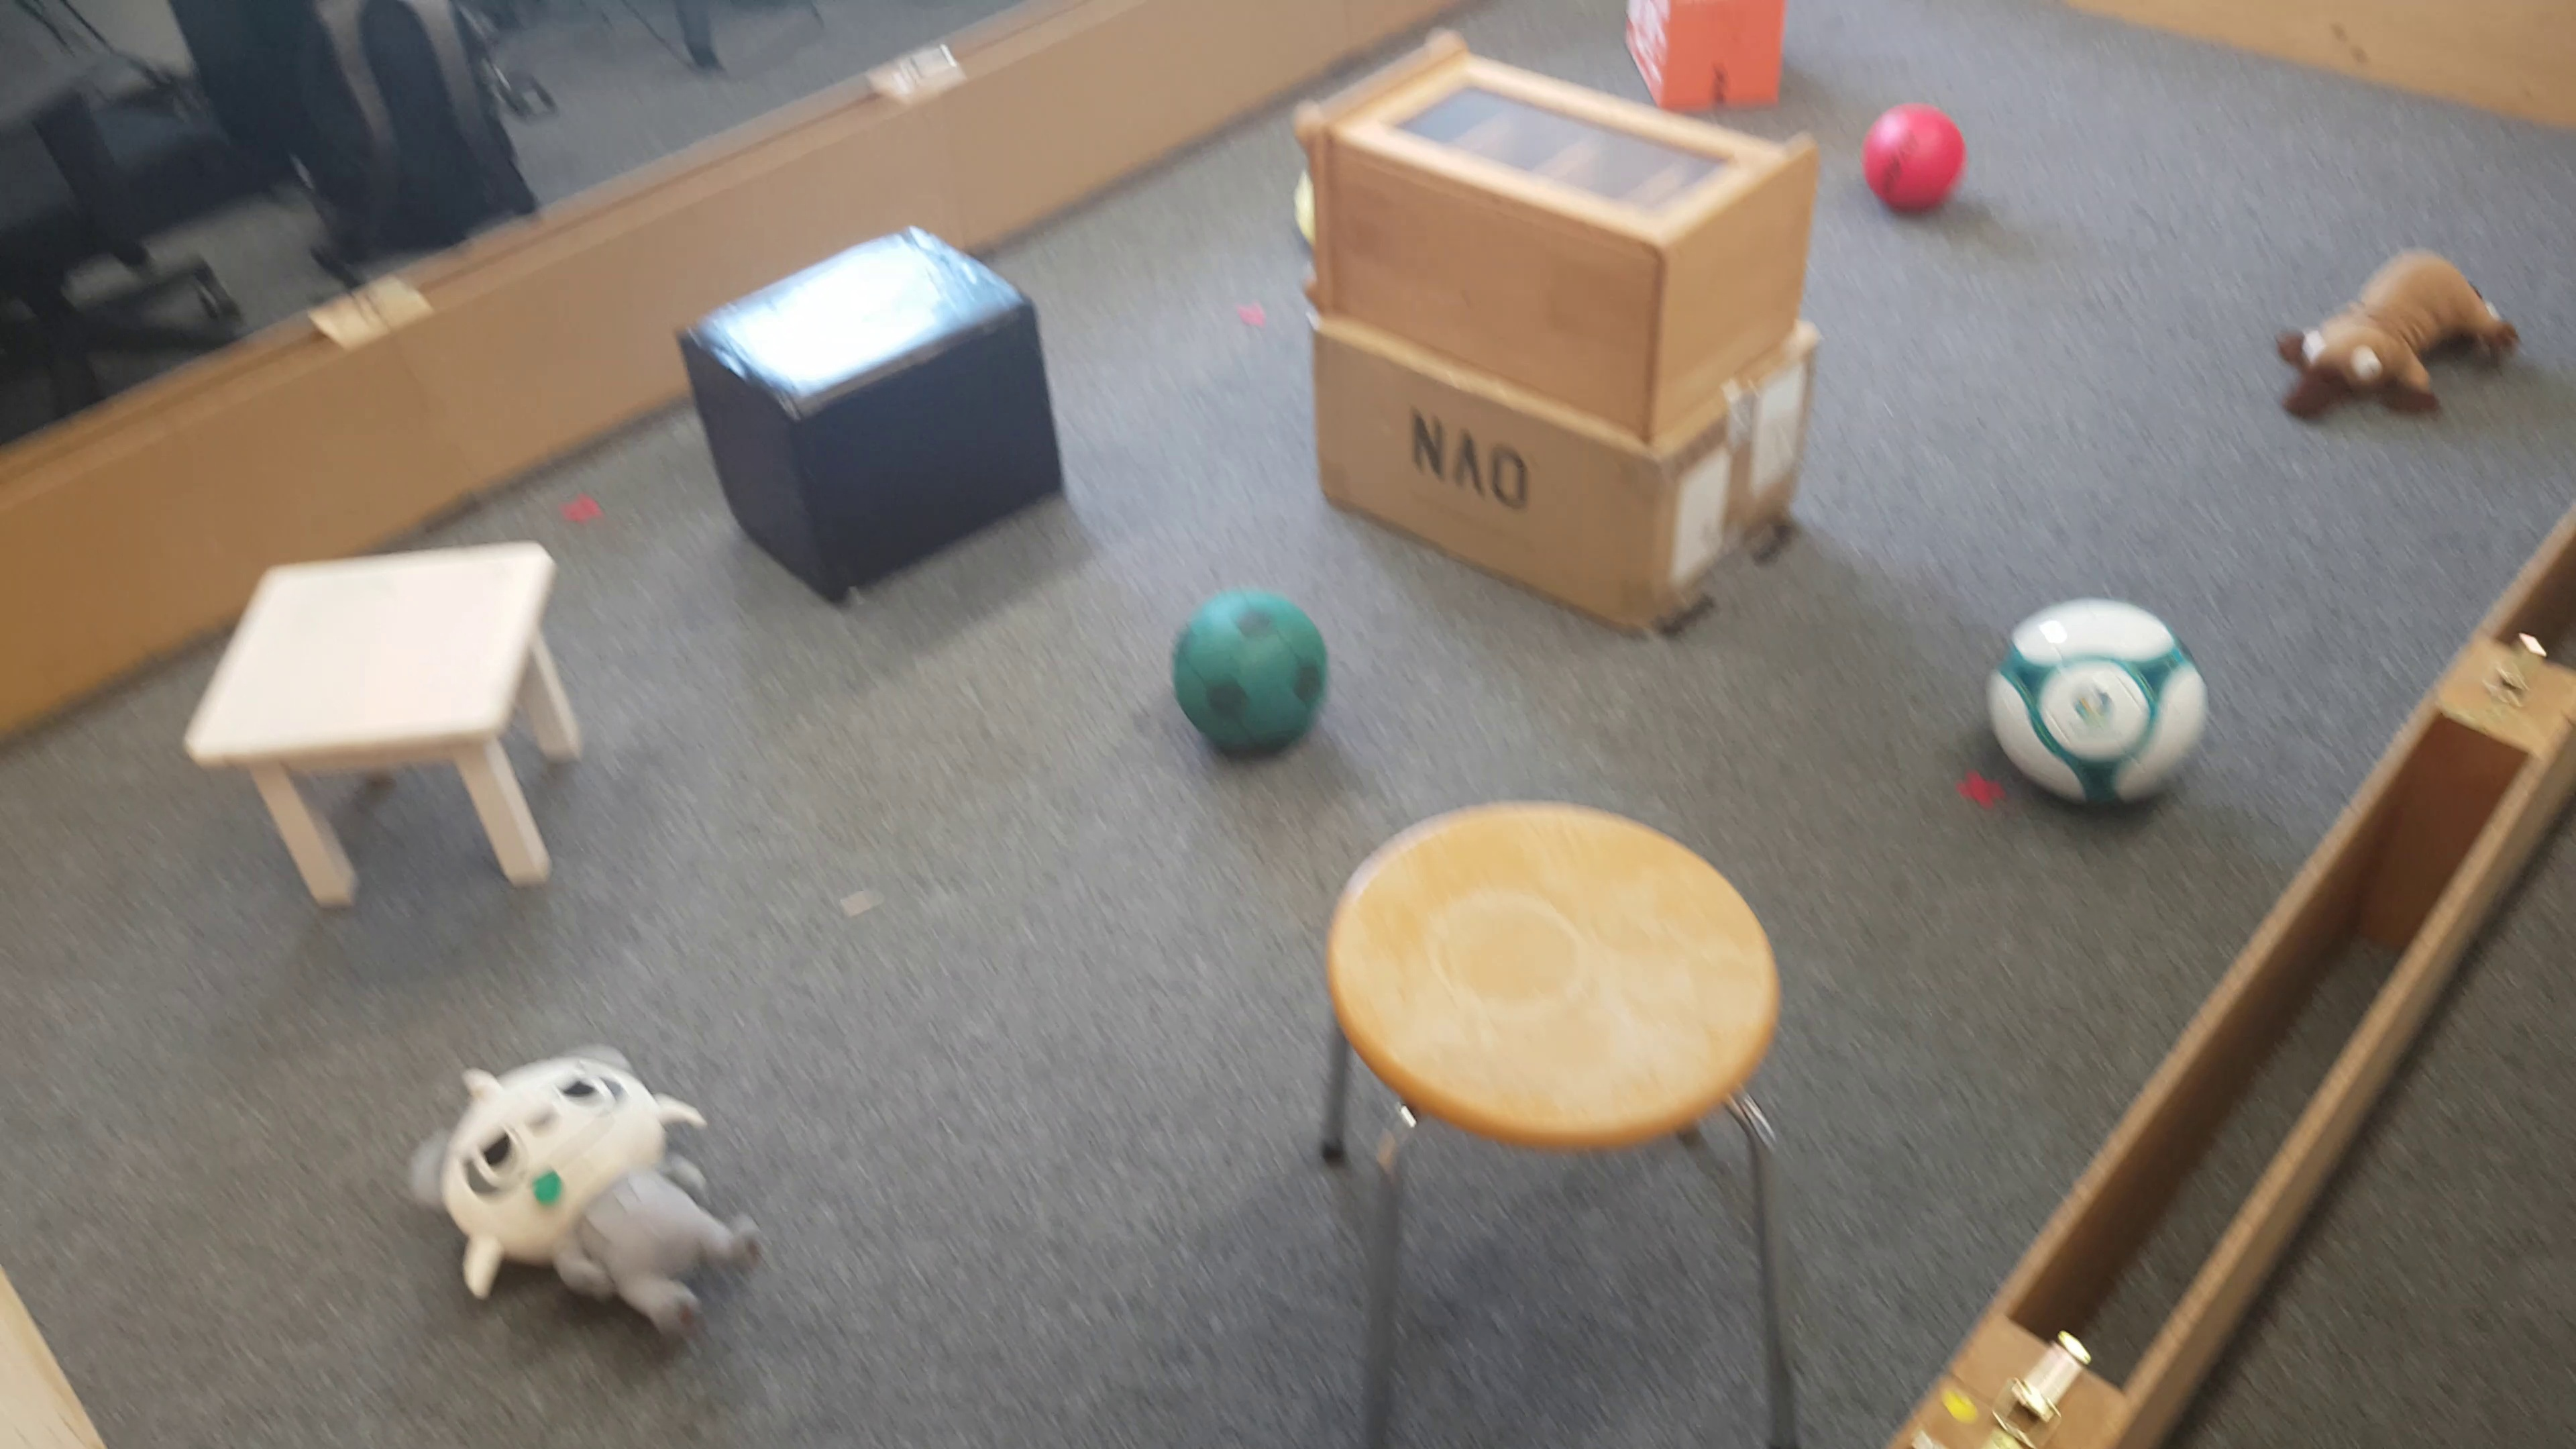grasp: (410, 1046, 770, 1348), (2277, 253, 2521, 430)
kick: (1996, 598, 2210, 821), (1173, 593, 1332, 766), (1863, 103, 1964, 218)
push: (678, 234, 1070, 602), (1631, 5, 1794, 115)
